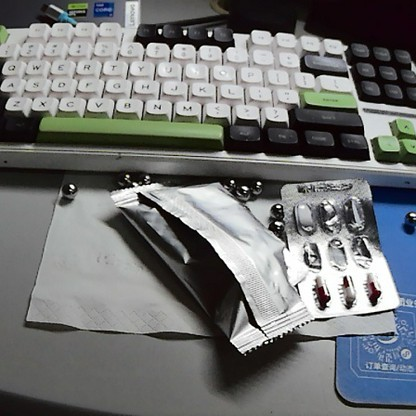ironball: (137, 165, 161, 196), (262, 216, 287, 244), (108, 163, 137, 187), (61, 178, 85, 201), (245, 174, 266, 196), (234, 183, 255, 202), (221, 174, 237, 194), (267, 204, 284, 219), (403, 205, 414, 227)
